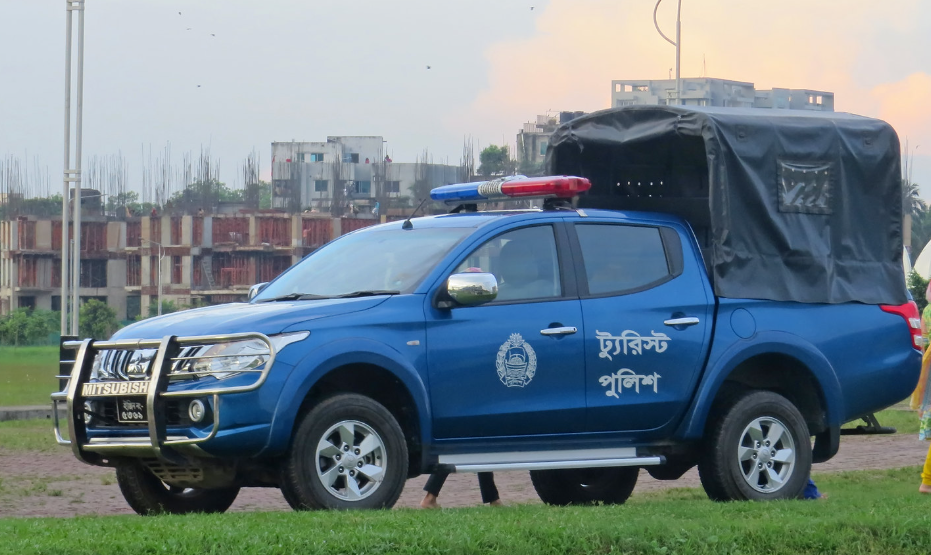Police cars: (48, 90, 916, 510)
